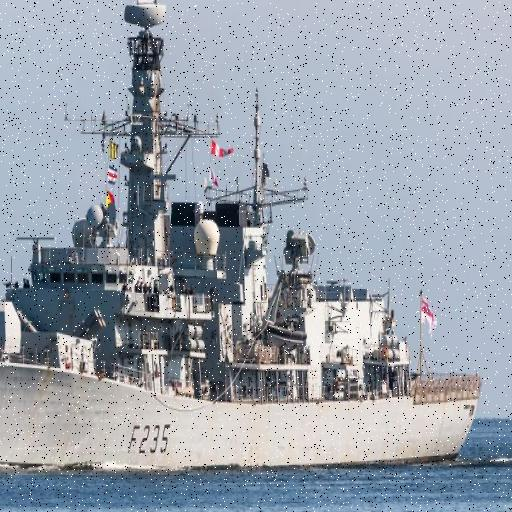Fragata: (1, 1, 488, 475)
